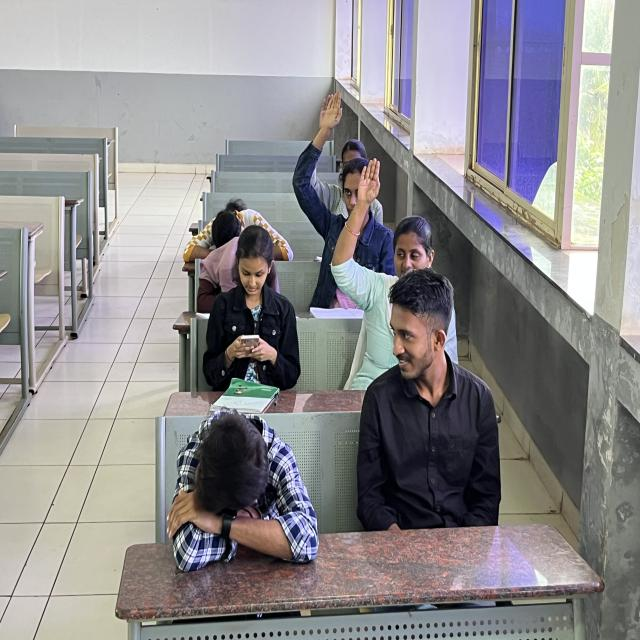Hand Rising: (292, 75, 396, 291), (334, 148, 430, 369)
Sleeping: (162, 384, 321, 604), (182, 180, 295, 273), (182, 220, 259, 316)
Using Phone: (195, 224, 305, 400)
